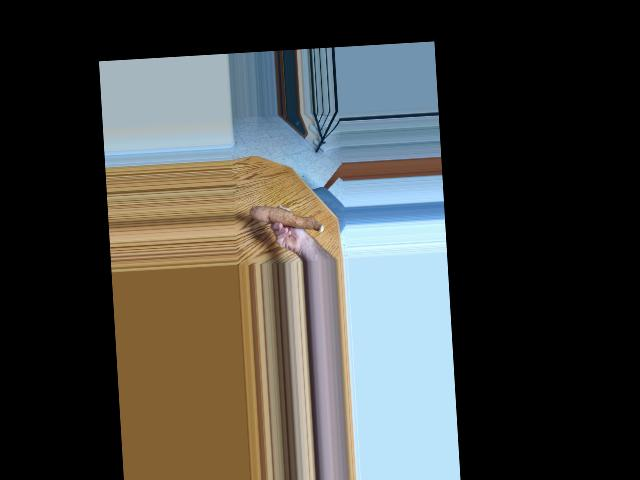sweet_potato: (252, 198, 324, 242)
